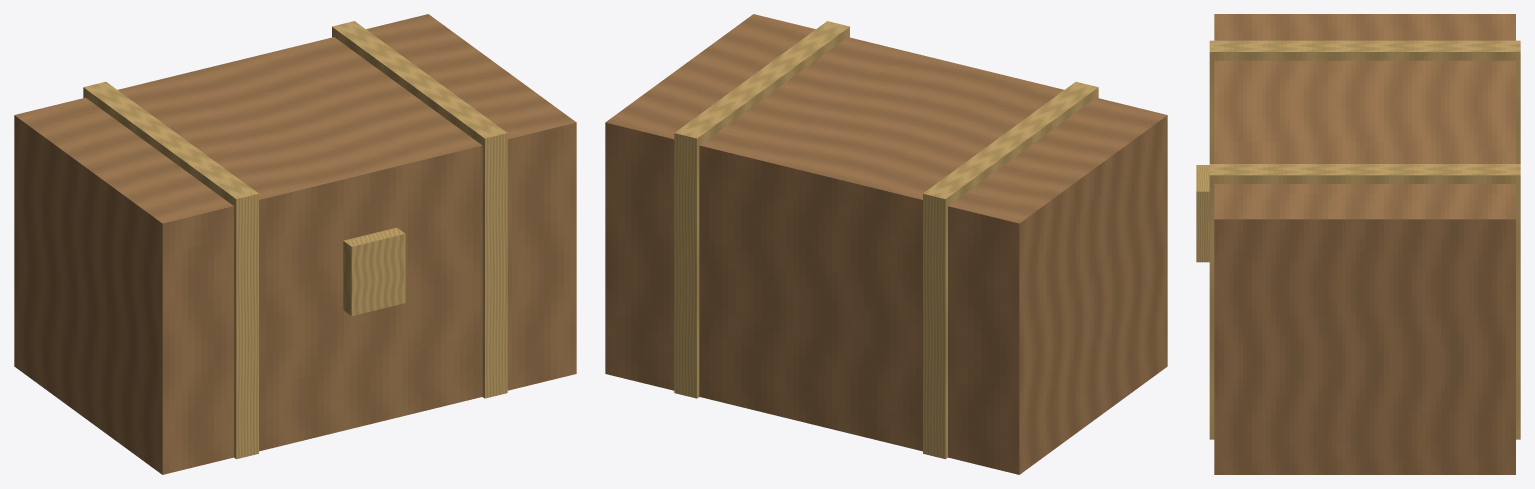
The picture shows the model from 3 angles, left to right: view 1: azimuth 30°, elevation 25°; view 2: azimuth 150°, elevation 25°; view 3: azimuth 270°, elevation 25°; orthographic projection.
Parts seen in each view (by area): view 1: Schultruhe aus dunklem Holz; view 2: Schultruhe aus dunklem Holz; view 3: Schultruhe aus dunklem Holz.
Boxes of the visible parts, left/top/right/bottom form: Schultruhe aus dunklem Holz: left=14, top=14, right=576, bottom=474; Schultruhe aus dunklem Holz: left=605, top=14, right=1167, bottom=474; Schultruhe aus dunklem Holz: left=1196, top=14, right=1520, bottom=474.
Bounding box in the file's own units: 1 × 0.6 × 0.6675.
Materials: 2 (2 with a texture image).
